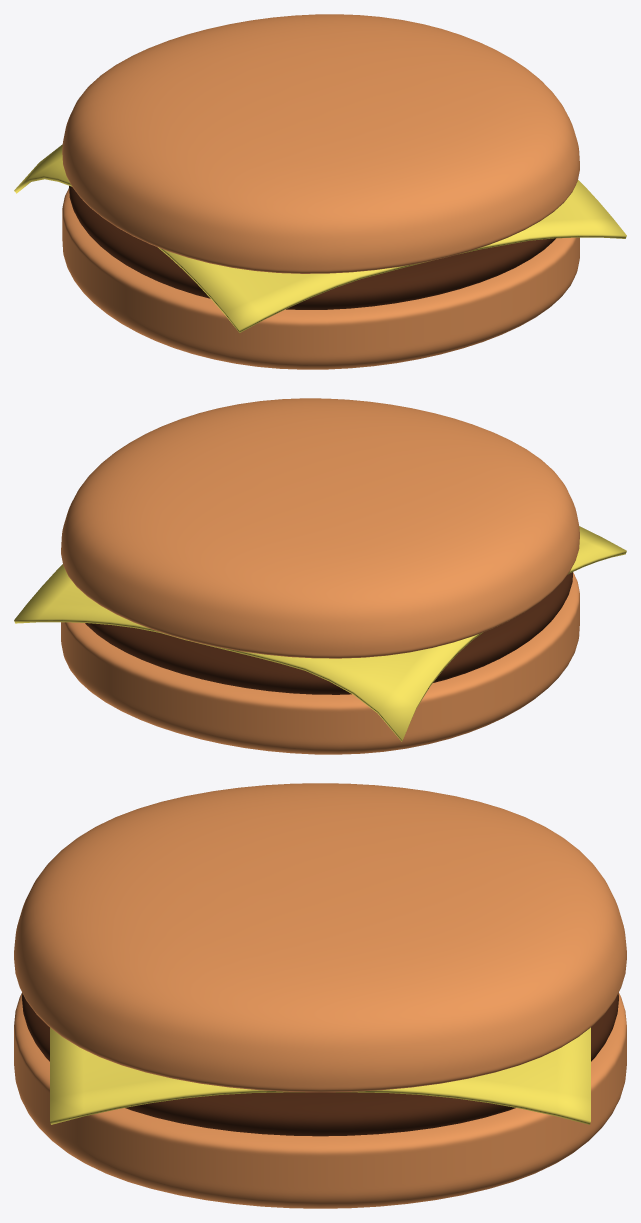
File: hamburger.glb
The picture shows the model from 3 angles, top to bottom: view 1: azimuth 30°, elevation 25°; view 2: azimuth 150°, elevation 25°; view 3: azimuth 270°, elevation 25°; orthographic projection. The views are drawn at different scales.
Visible parts, largest first — view 1: bunTop, bunBottom, cheese, meat; view 2: bunTop, bunBottom, cheese, meat; view 3: bunTop, bunBottom, cheese, meat.
Boxes of the visible parts, x1,y1,x2,y2 form: bunTop: (62, 14, 579, 273); bunBottom: (62, 188, 579, 369); cheese: (14, 144, 626, 332); meat: (69, 186, 555, 309); bunTop: (61, 398, 579, 658); bunBottom: (61, 572, 579, 754); cheese: (14, 526, 626, 741); meat: (85, 572, 572, 694); bunTop: (14, 783, 626, 1092); bunBottom: (14, 992, 626, 1208); cheese: (50, 1027, 590, 1124); meat: (22, 993, 618, 1136).
Size of the model in its own units: 9.17 by 3.93 by 9.17.
